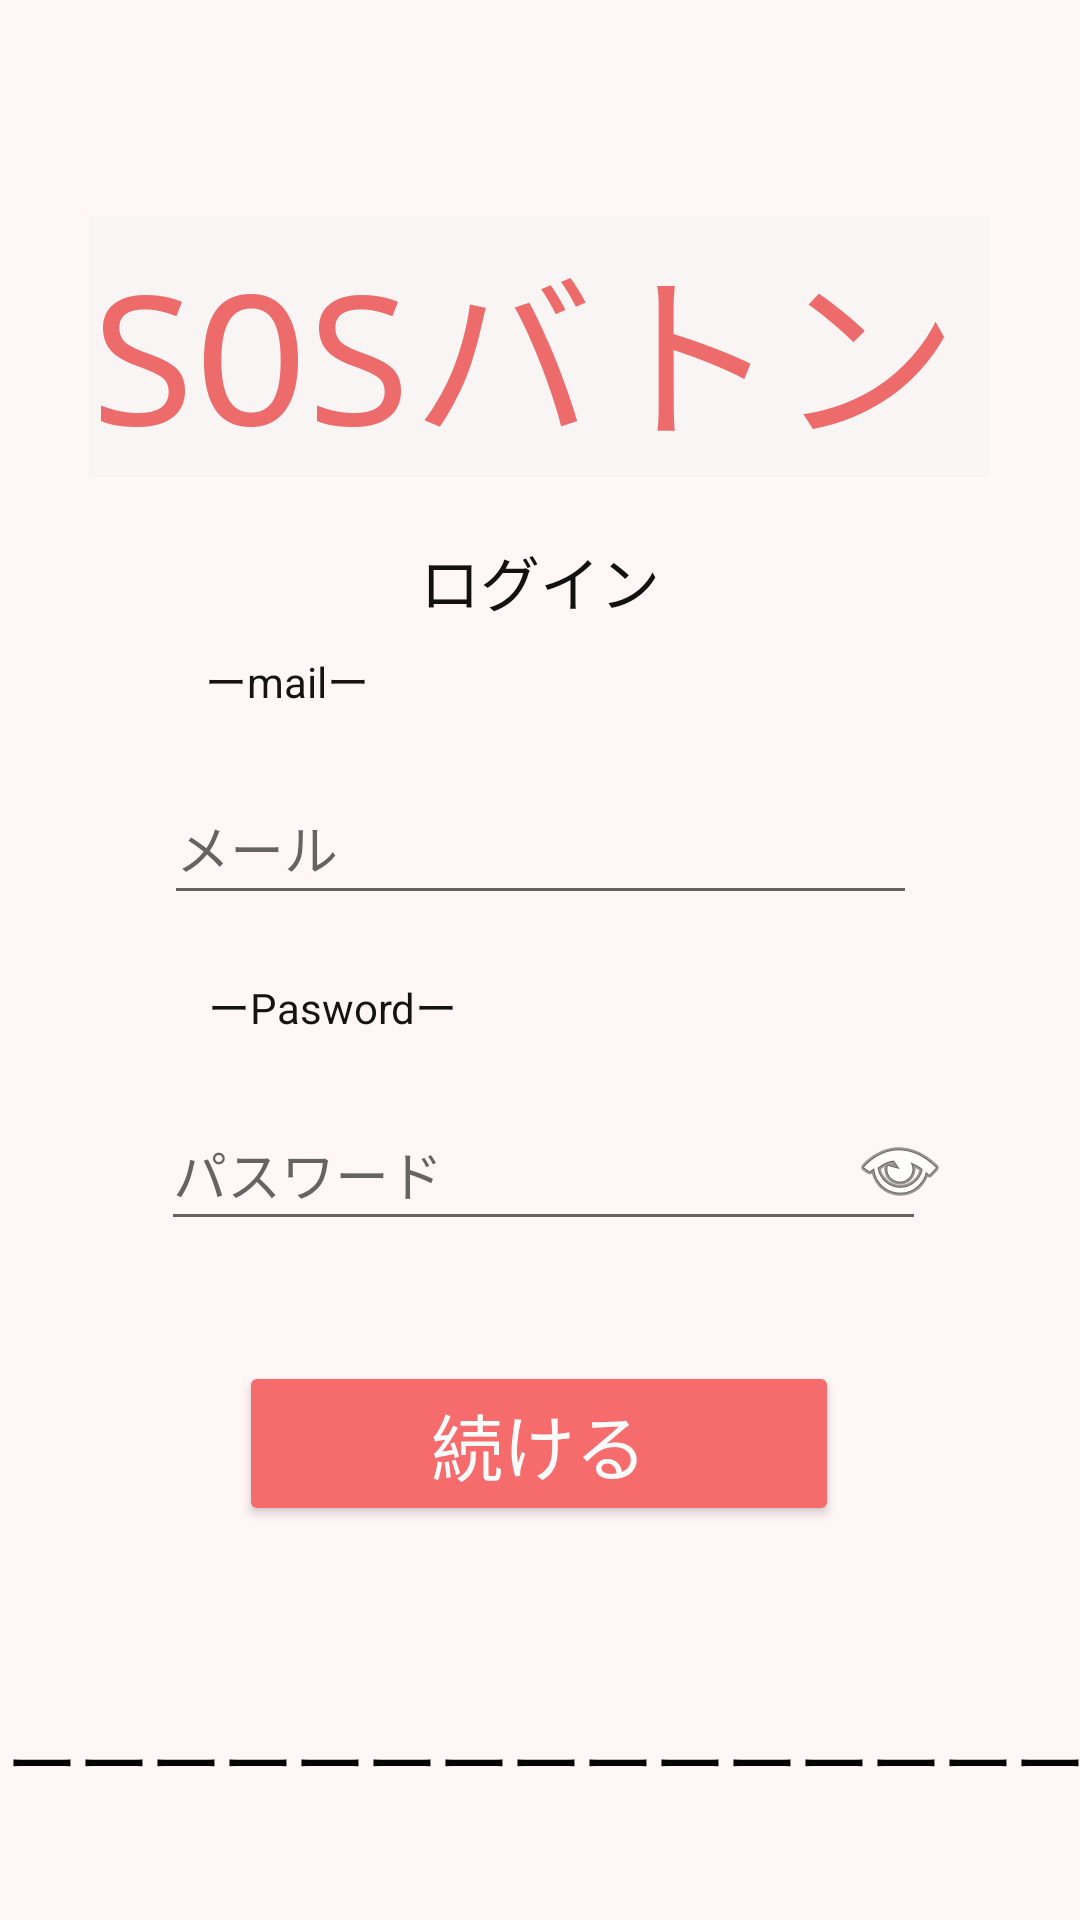

Screen size 1080×1920. Icon name, then its box in pixels as BBox(x1, y1, x2, y2):
view: BBox(861, 1147, 939, 1196)
